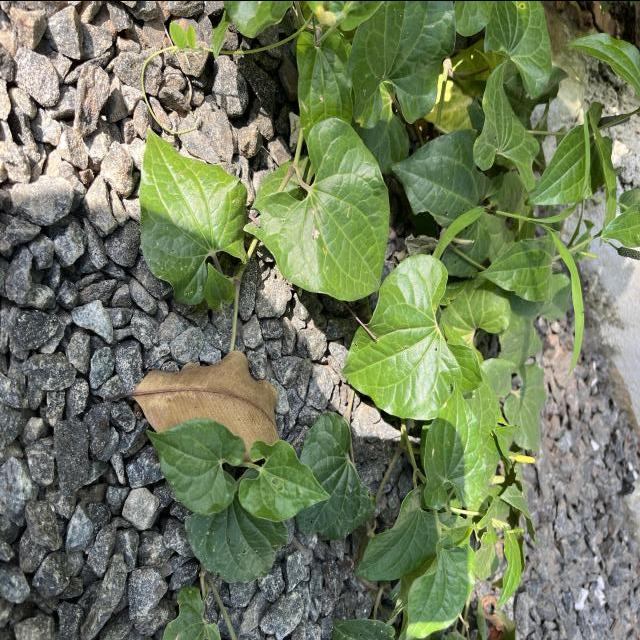Piper longum: (260, 112, 392, 304), (337, 252, 485, 422), (139, 123, 251, 307), (142, 416, 248, 516), (422, 372, 488, 510), (237, 437, 335, 522)
